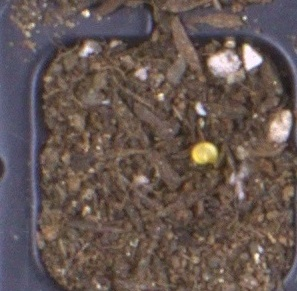chilli seed: (190, 141, 218, 164)
